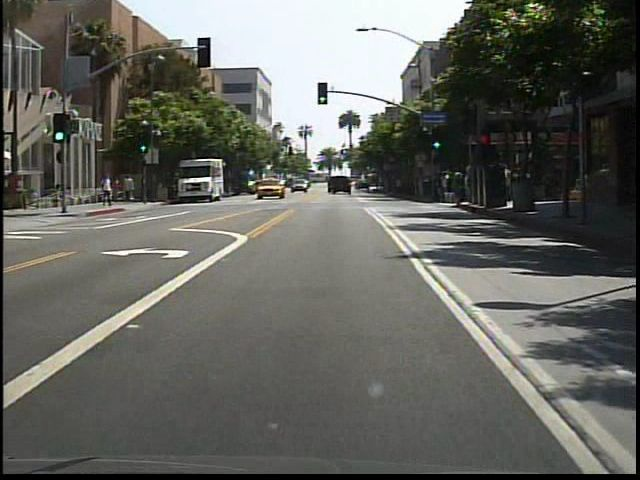person: (123, 173, 139, 205), (102, 173, 115, 208), (112, 175, 125, 204), (50, 184, 66, 207)
